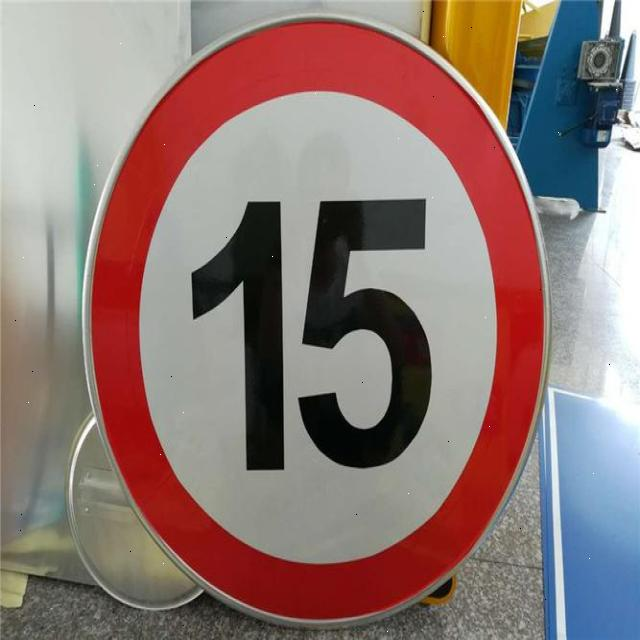speed limit 20: (78, 12, 550, 629)
